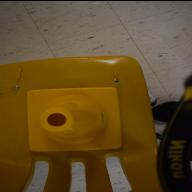cone: (28, 86, 122, 151)
